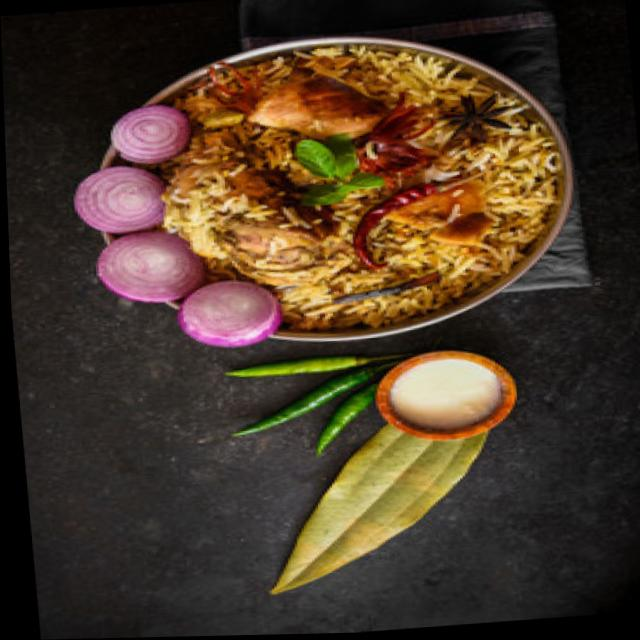BIRIYANI: (164, 50, 554, 328)
CURD: (394, 358, 499, 427)
